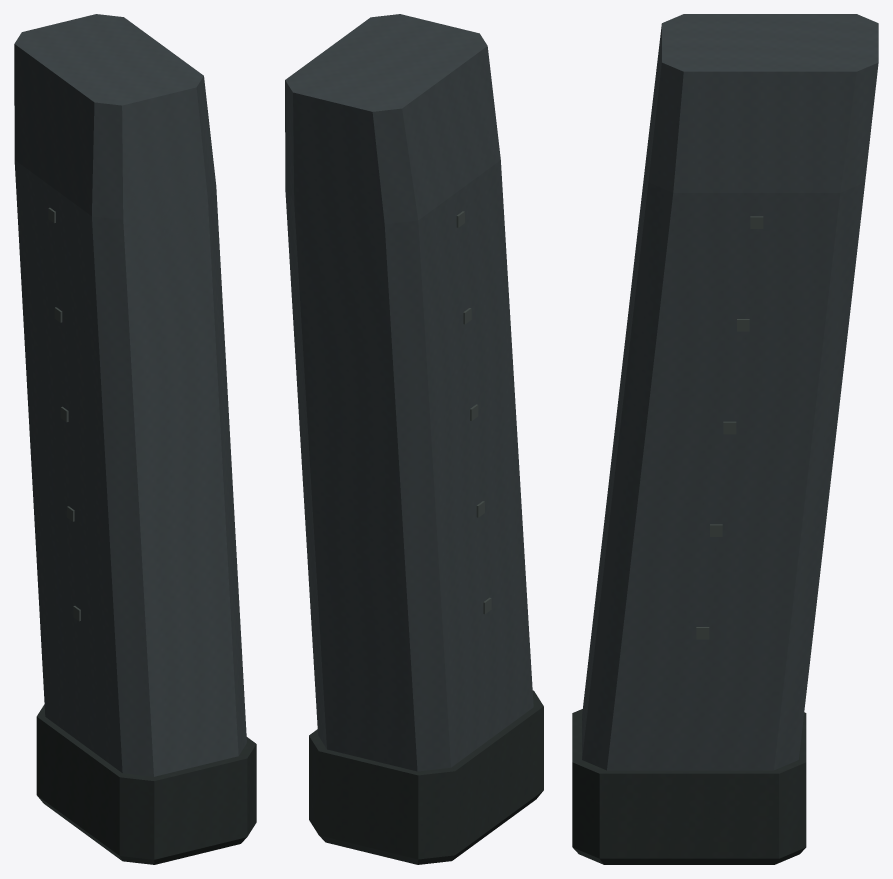
The picture shows the model from 3 angles, left to right: view 1: azimuth 30°, elevation 25°; view 2: azimuth 150°, elevation 25°; view 3: azimuth 270°, elevation 25°; orthographic projection. The views are drawn at different scales.
Parts seen in each view (by area): view 1: m9_20_individual_shell, m9_20_individual_shell.001, m9_20_floorplate, m9_20_witness_inset; view 2: m9_20_individual_shell, m9_20_individual_shell.001, m9_20_floorplate, m9_20_witness_inset; view 3: m9_20_individual_shell, m9_20_floorplate, m9_20_individual_shell.001, m9_20_witness_inset.
Part boxes in pixels (x1,y1,x2,y2): m9_20_individual_shell: (14, 14, 246, 776); m9_20_individual_shell.001: (21, 88, 246, 769); m9_20_floorplate: (36, 704, 256, 864); m9_20_witness_inset: (48, 207, 80, 621); m9_20_individual_shell: (285, 14, 533, 771); m9_20_individual_shell.001: (292, 93, 532, 771); m9_20_floorplate: (309, 690, 543, 864); m9_20_witness_inset: (456, 211, 491, 614); m9_20_individual_shell: (582, 14, 878, 770); m9_20_floorplate: (572, 709, 806, 864); m9_20_individual_shell.001: (582, 26, 850, 770); m9_20_witness_inset: (696, 216, 763, 639).
Size of the model in its own units: 0.0528 by 0.269 by 0.0947.
3 materials, 2 textured.
